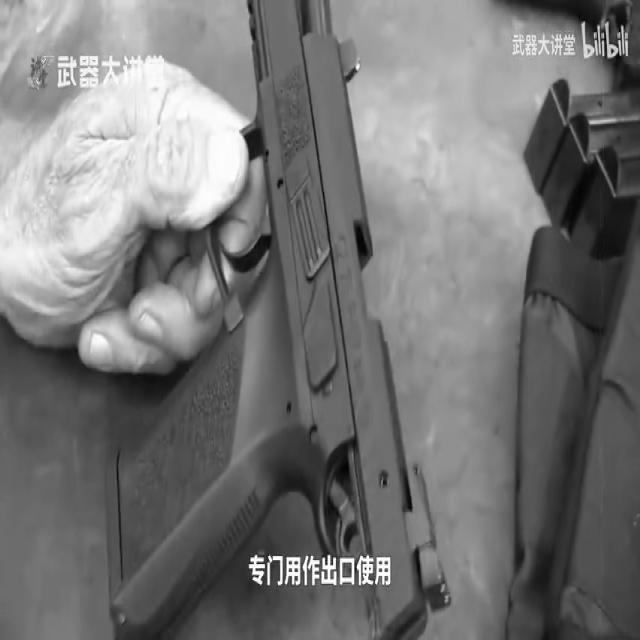Hand-Gun: (80, 0, 476, 640)
